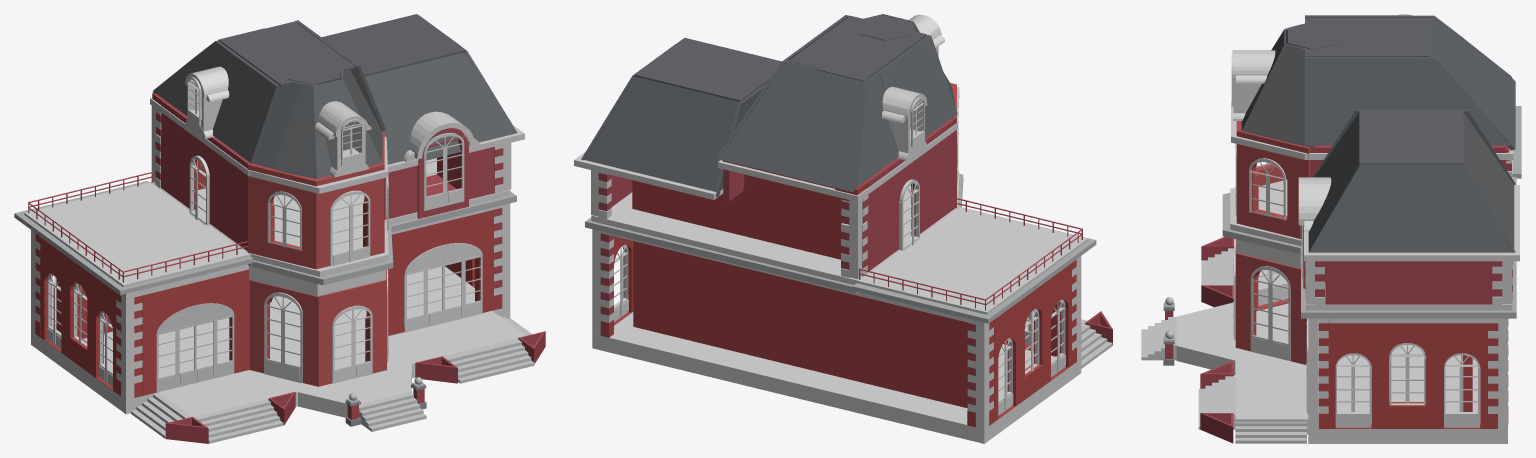
Rendered from big house ma.glb.
The picture shows the model from 3 angles, left to right: view 1: azimuth 30°, elevation 25°; view 2: azimuth 150°, elevation 25°; view 3: azimuth 270°, elevation 25°; orthographic projection. The views are drawn at different scales.
Visible parts, largest first — view 1: Mesh_Mesh_head_geo.001_lambert2SG.001; view 2: Mesh_Mesh_head_geo.001_lambert2SG.001; view 3: Mesh_Mesh_head_geo.001_lambert2SG.001.
Boxes of the visible parts, left/top/right/bottom form: Mesh_Mesh_head_geo.001_lambert2SG.001: left=14, top=14, right=545, bottom=443; Mesh_Mesh_head_geo.001_lambert2SG.001: left=574, top=14, right=1112, bottom=443; Mesh_Mesh_head_geo.001_lambert2SG.001: left=1141, top=14, right=1521, bottom=443.
Size of the model in its own units: 148 by 102 by 114.
